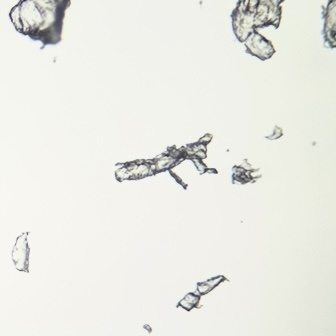microplastic: (115, 133, 218, 190), (232, 1, 283, 60), (9, 1, 71, 49), (177, 275, 230, 311), (232, 159, 262, 185), (11, 232, 30, 273), (323, 1, 336, 47), (265, 125, 283, 140), (143, 324, 152, 332)
